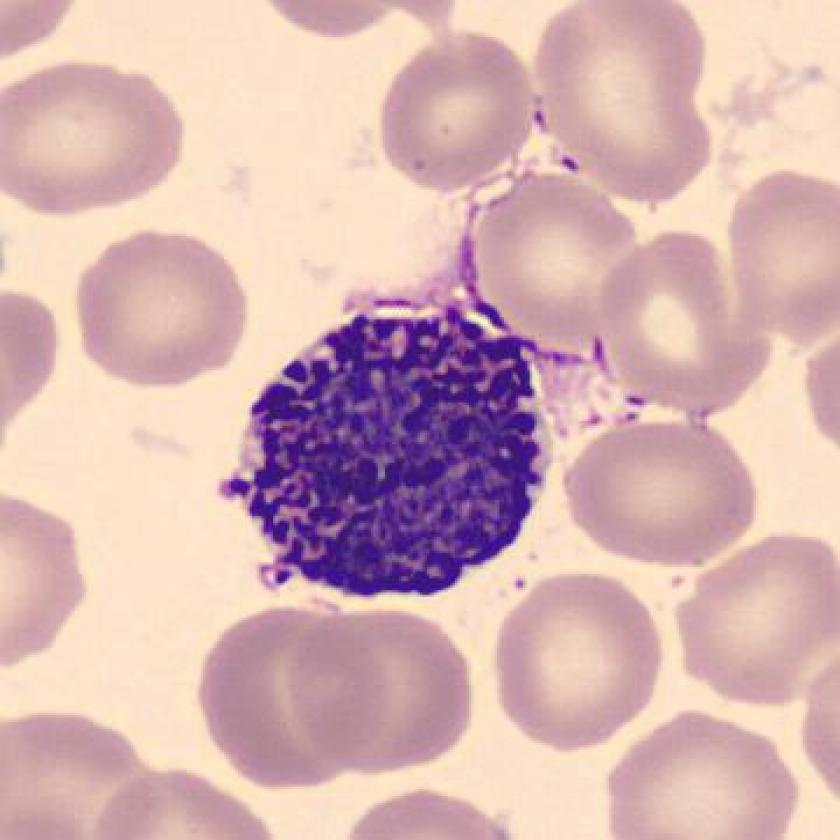basophil: (230, 274, 566, 619)
